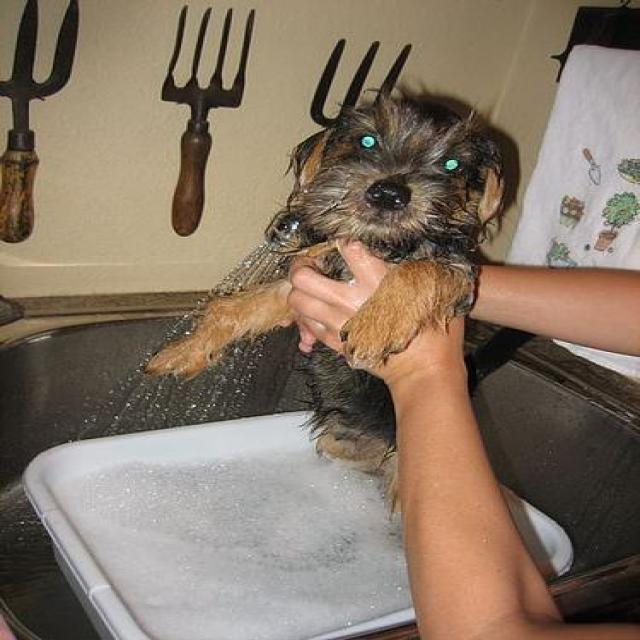dogs: (172, 41, 587, 494)
